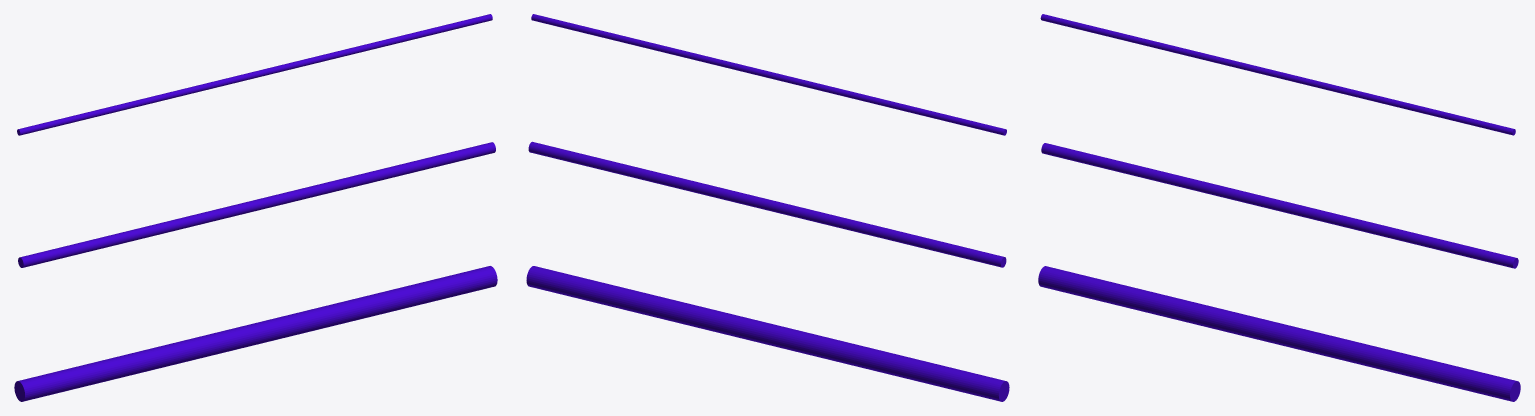
File: barrier_segment.dae
3 renders of one model, left to right at view 1: azimuth 30°, elevation 25°; view 2: azimuth 150°, elevation 25°; view 3: azimuth 330°, elevation 25°, orthographic.
Parts seen in each view (by area): view 1: Cylinder; view 2: Cylinder; view 3: Cylinder.
Boxes of the visible parts, box(x1,y1,x2,y2) form: Cylinder: box(14, 14, 497, 401); Cylinder: box(526, 14, 1009, 401); Cylinder: box(1038, 14, 1520, 401).
Bounding box in the file's own units: 9.37 × 0.3658 × 5.13.
